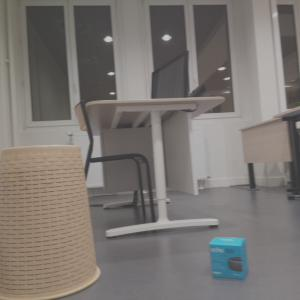medium: (1, 144, 100, 300)
small: (209, 235, 248, 279)
